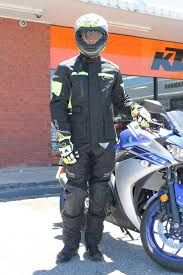helmet: (72, 14, 114, 55)
